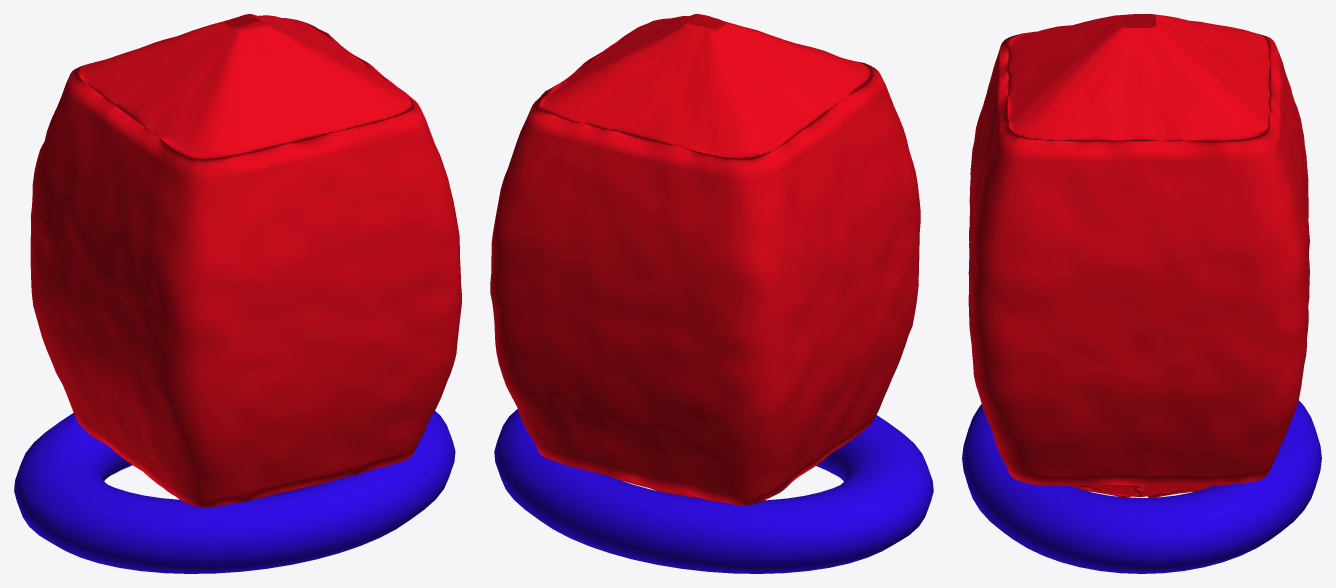
The model's file is Versi_3.fbx.
The picture shows the model from 3 angles, left to right: view 1: azimuth 30°, elevation 25°; view 2: azimuth 150°, elevation 25°; view 3: azimuth 270°, elevation 25°; orthographic projection.
Parts seen in each view (by area): view 1: Frag1, Torus; view 2: Frag1, Torus; view 3: Frag1, Torus.
Boxes of the visible parts, x1,y1,x2,y2 form: Frag1: (30,14,461,507); Torus: (14,411,455,573); Frag1: (490,14,920,505); Torus: (494,409,933,573); Frag1: (968,14,1309,497); Torus: (962,400,1321,573).
Bounding box in the file's own units: 223 × 254 × 175.
